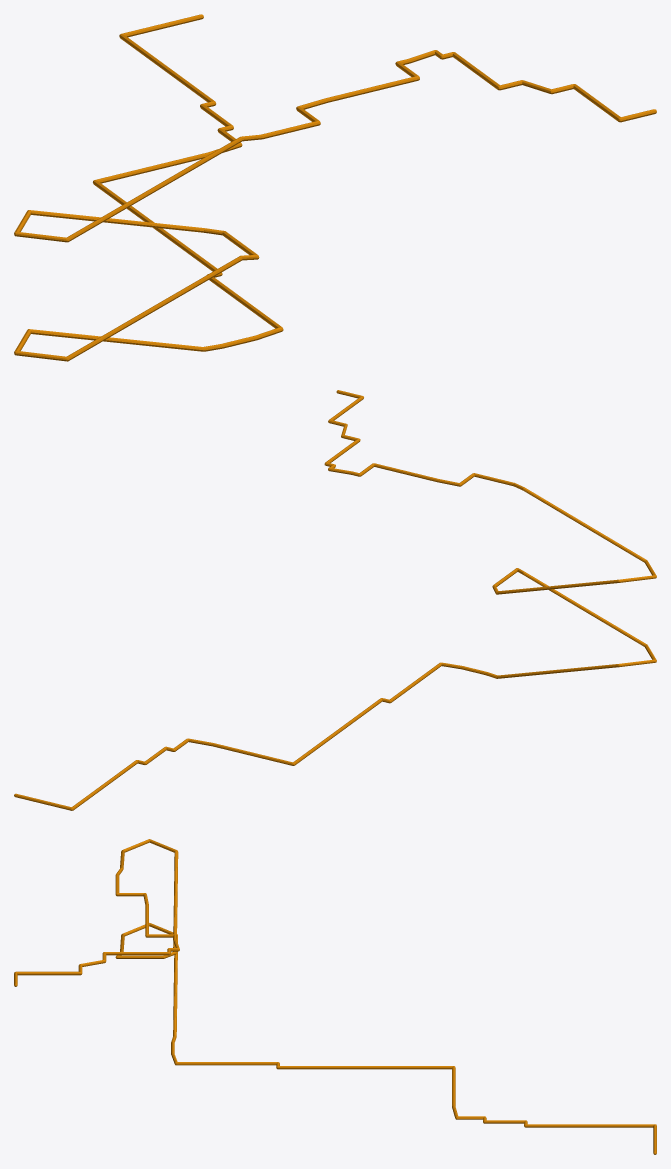
3 views of the same model, one above another, from view 1: azimuth 30°, elevation 25°; view 2: azimuth 150°, elevation 25°; view 3: azimuth 270°, elevation 25° (orthographic). The views are drawn at different scales.
Bounding box in the file's own units: 2412 × 1020 × 3478.
